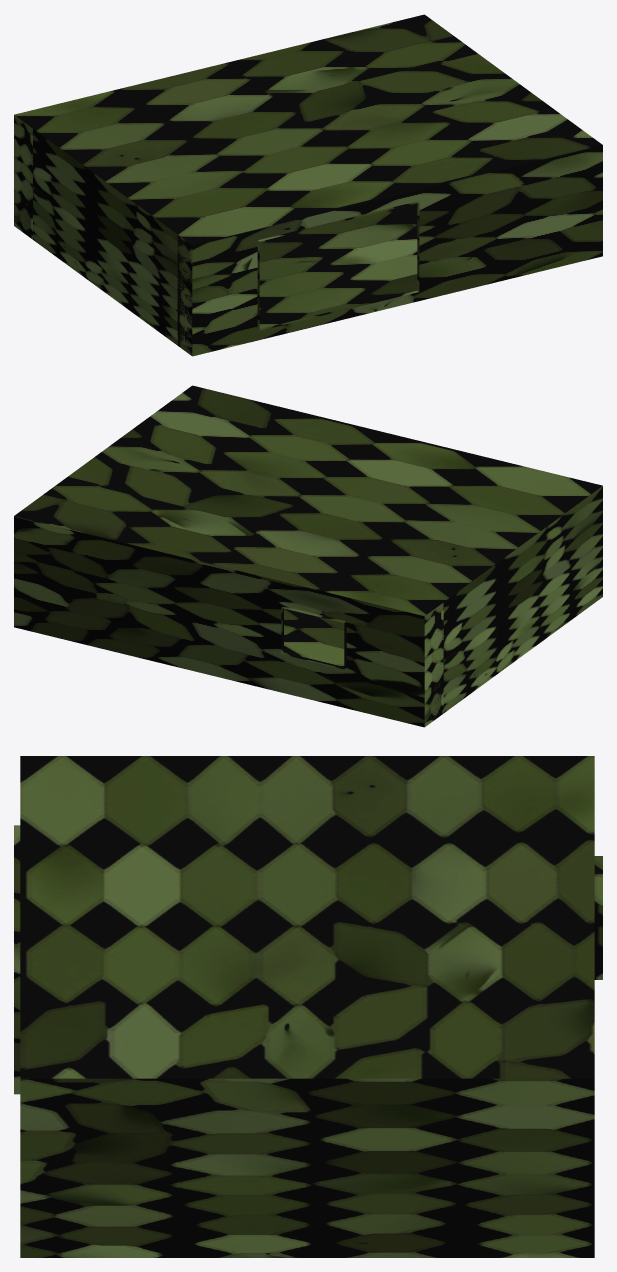
The model's file is modern_scandinavian_kitchen_island_0.obj.
3 renders of one model, top to bottom at view 1: azimuth 30°, elevation 25°; view 2: azimuth 150°, elevation 25°; view 3: azimuth 270°, elevation 25°, orthographic. The views are drawn at different scales.
Size of the model in its own units: 11.59 by 3 by 8.94.
